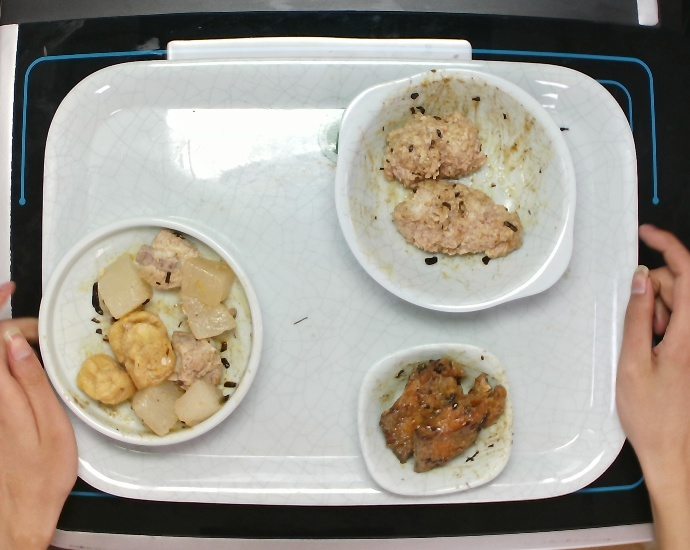JYsf-Shuang_Er_Wan: (335, 66, 584, 311)
JYsf-Si_Fang_Die: (351, 337, 513, 502)
JYsf-Xiao_Yuan_Pan: (34, 212, 263, 447)
